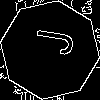J: (25, 25, 75, 57)
